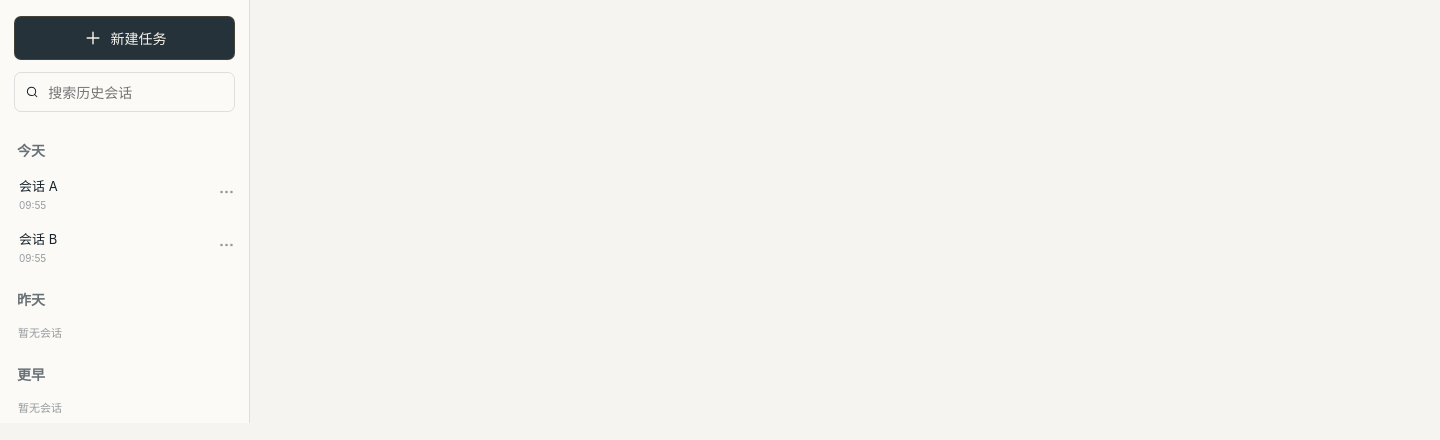
Scenario: Sidebar session context menu › closes on outside pointer down
The image size is (1440, 440).
Click the 1st button named "会话操作". click: (226, 194)
box: [214, 178, 239, 209]
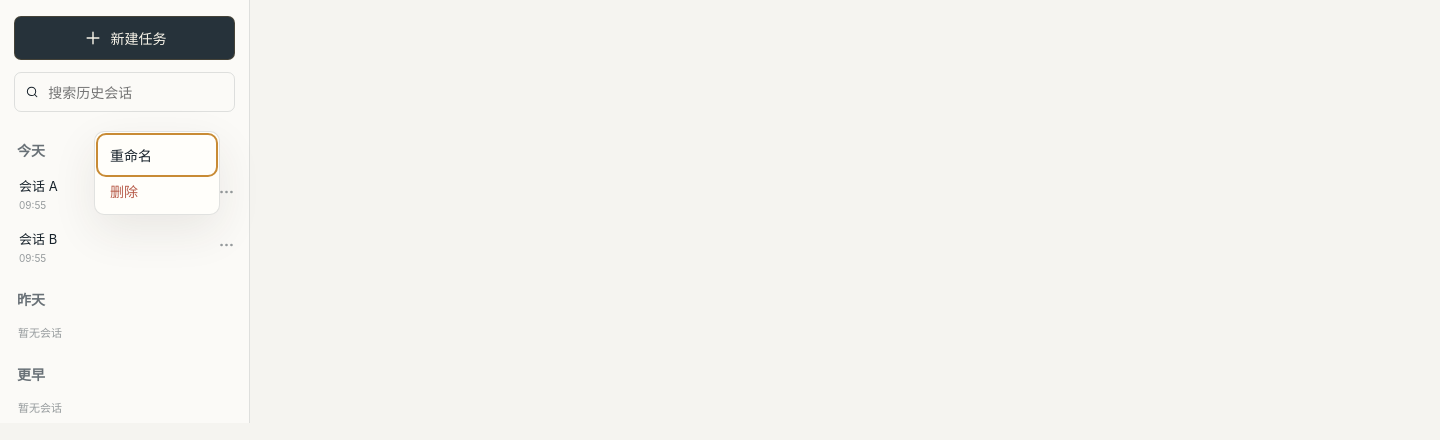
Press the mouse on the element showing "新建任务 今天 会话 A 09:55 会话 B 09:55 昨天 暂无会话 更早 暂无会话 重命名 删除" at (720, 212), box [0, 0, 1439, 423]
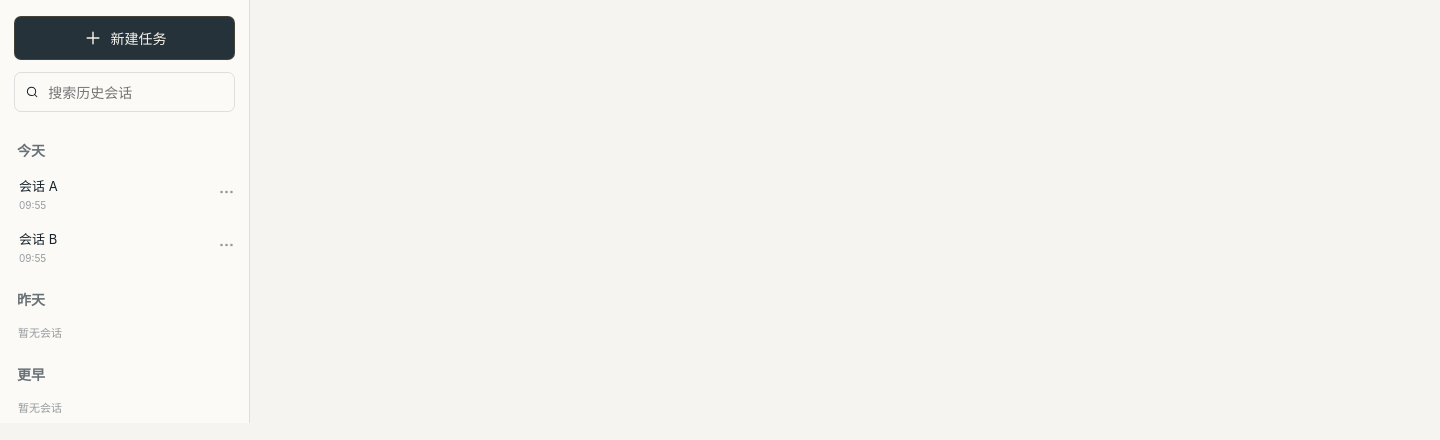
Check: the menu is gone
